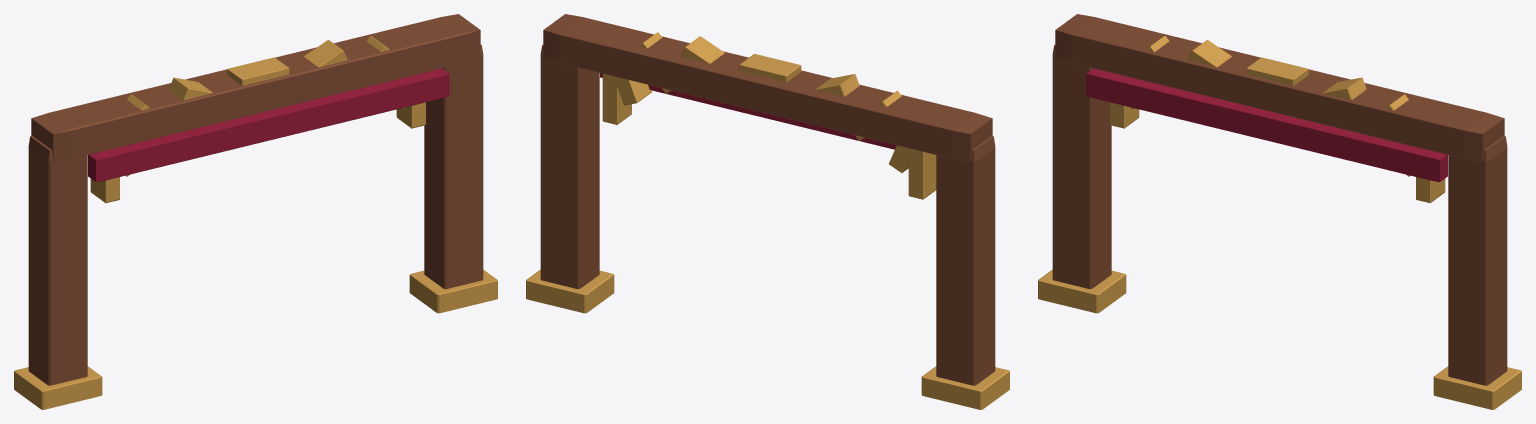
File: proscenium.glb
3 views of the same model, side by side, from view 1: azimuth 30°, elevation 25°; view 2: azimuth 150°, elevation 25°; view 3: azimuth 330°, elevation 25° (orthographic).
Parts seen in each view (by area): view 1: top_beam, left_column, right_column, inner_valance, left_base, right_base, arch_4, arch_5, arch_3, arch_0, arch_8; view 2: top_beam, left_column, right_column, left_base, right_base, inner_valance, arch_0, arch_4, arch_8, arch_5, arch_7, arch_3; view 3: top_beam, right_column, left_column, inner_valance, left_base, right_base, arch_4, arch_3, arch_5, arch_8, arch_0.
Boxes of the visible parts, x1,y1,x2,y2 form: top_beam: (31,14,480,161); left_column: (28,136,87,385); right_column: (424,45,483,289); inner_valance: (88,68,449,182); left_base: (14,366,102,409); right_base: (409,269,497,313); arch_4: (227,57,289,85); arch_5: (304,40,347,67); arch_3: (169,77,212,99); arch_0: (90,177,119,203); arch_8: (396,102,425,128); top_beam: (543,14,992,161); left_column: (936,136,995,385); right_column: (540,45,599,289); left_base: (921,366,1009,409); right_base: (526,269,614,313); inner_valance: (600,73,896,149); arch_0: (908,148,936,199); arch_4: (739,54,801,82); arch_8: (602,73,631,124); arch_5: (681,36,724,63); arch_7: (613,76,651,105); arch_3: (816,74,859,96); top_beam: (1055,14,1504,161); right_column: (1448,136,1507,385); left_column: (1052,45,1111,289); inner_valance: (1086,68,1447,182); left_base: (1038,269,1126,313); right_base: (1433,366,1521,409); arch_4: (1246,57,1308,85); arch_3: (1188,40,1231,67); arch_5: (1323,77,1366,99); arch_8: (1416,177,1445,203); arch_0: (1110,102,1139,128).
Bounding box in the file's own units: 8.65 × 5.12 × 1.03.
